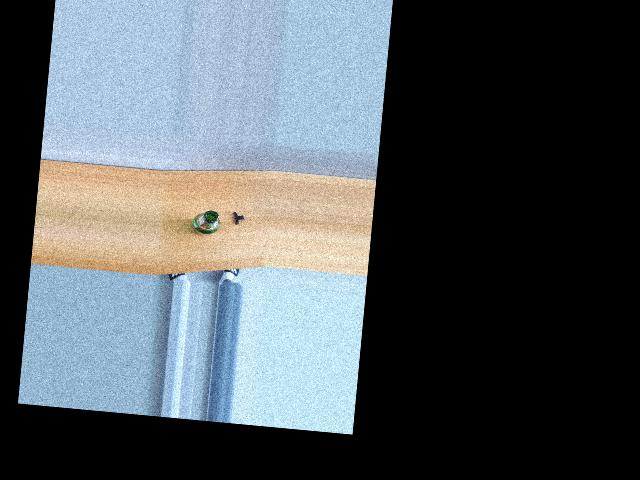beer: (191, 209, 222, 238)
